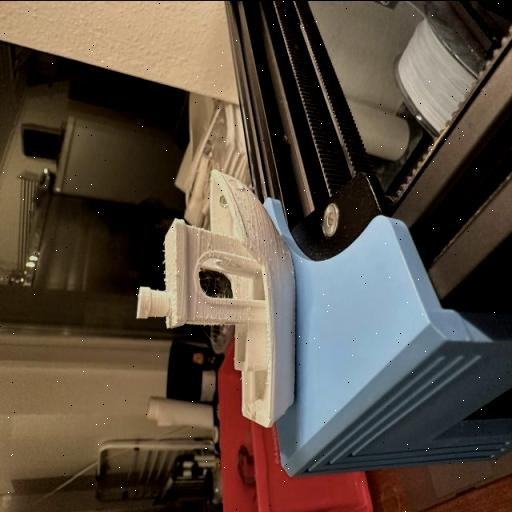stringing: (204, 272, 250, 300)
